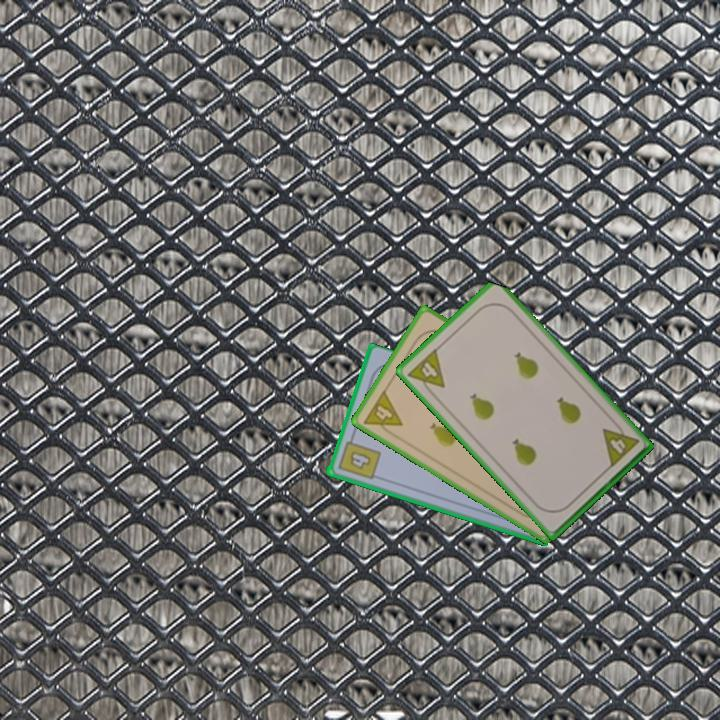4b: (334, 432, 383, 483)
4p: (359, 386, 405, 440), (404, 345, 448, 400), (599, 417, 642, 470)
